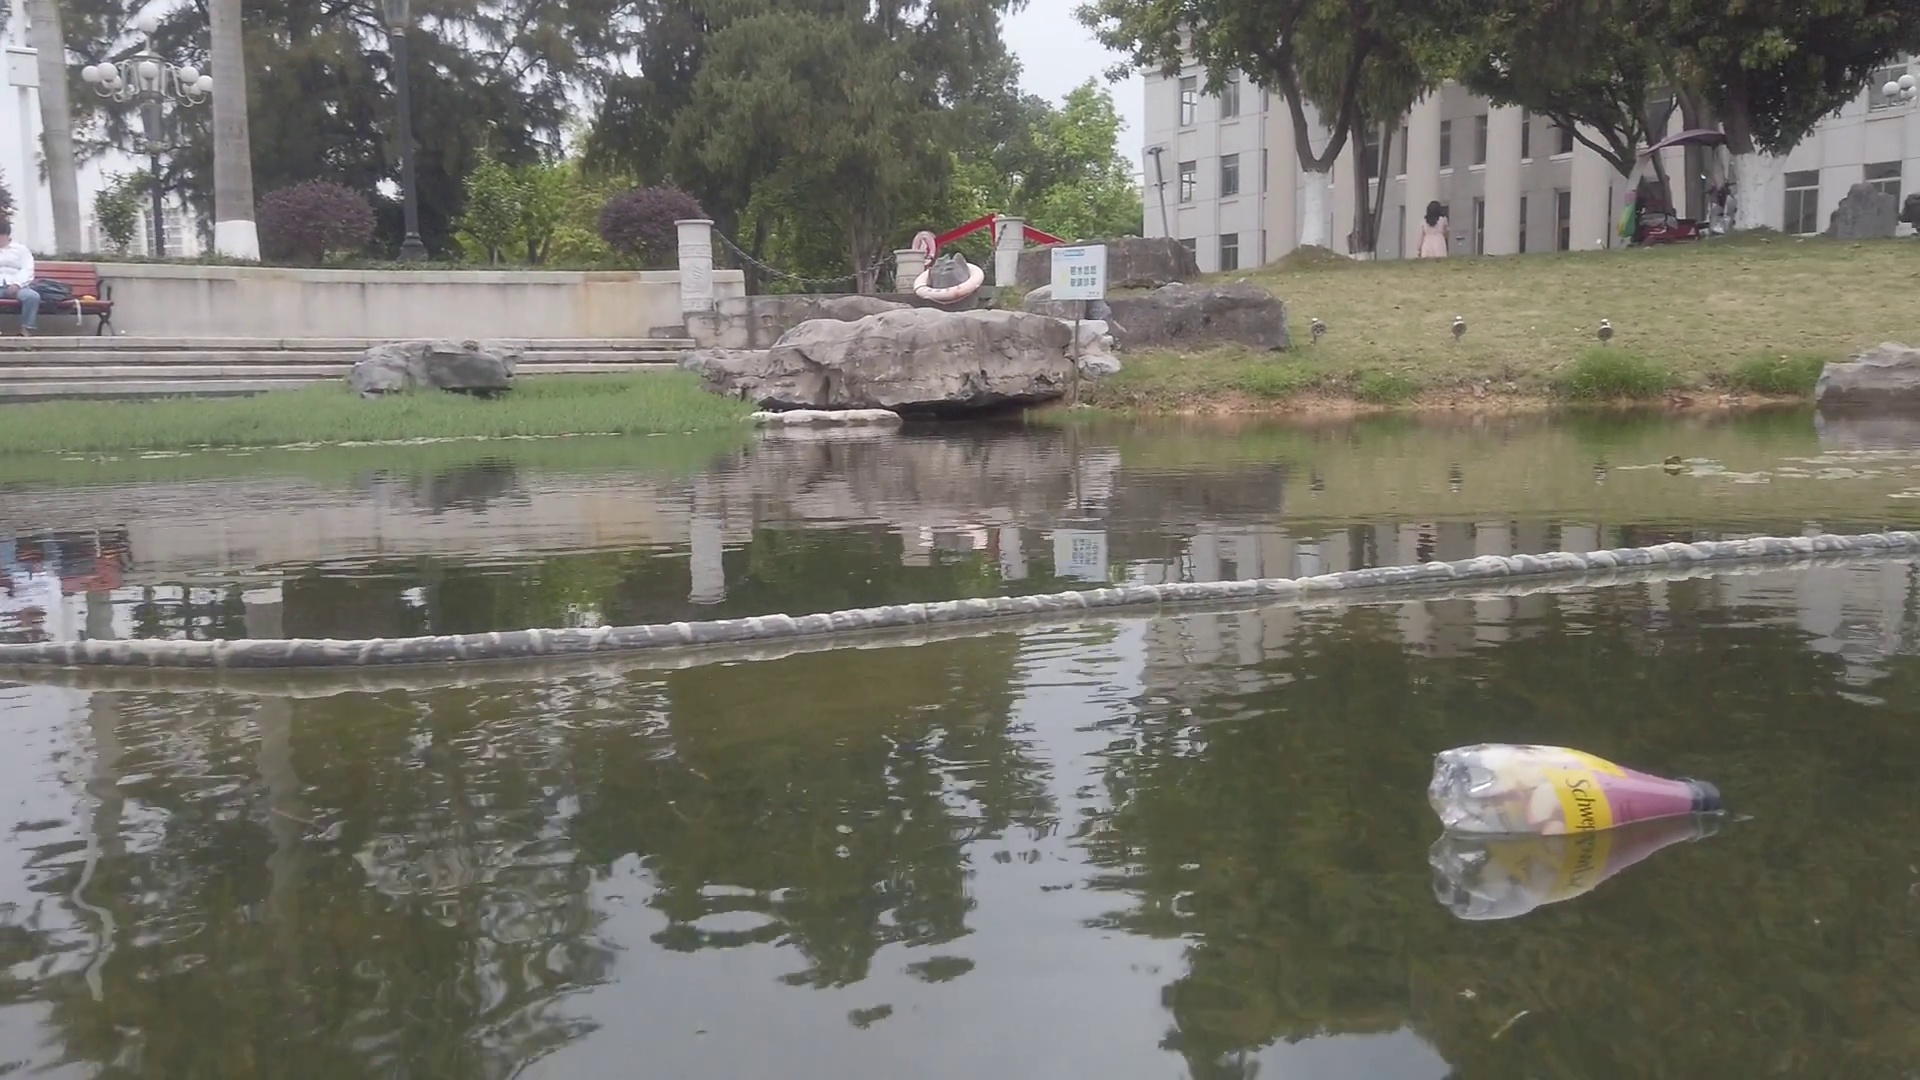bottle: (1431, 738, 1724, 829)
